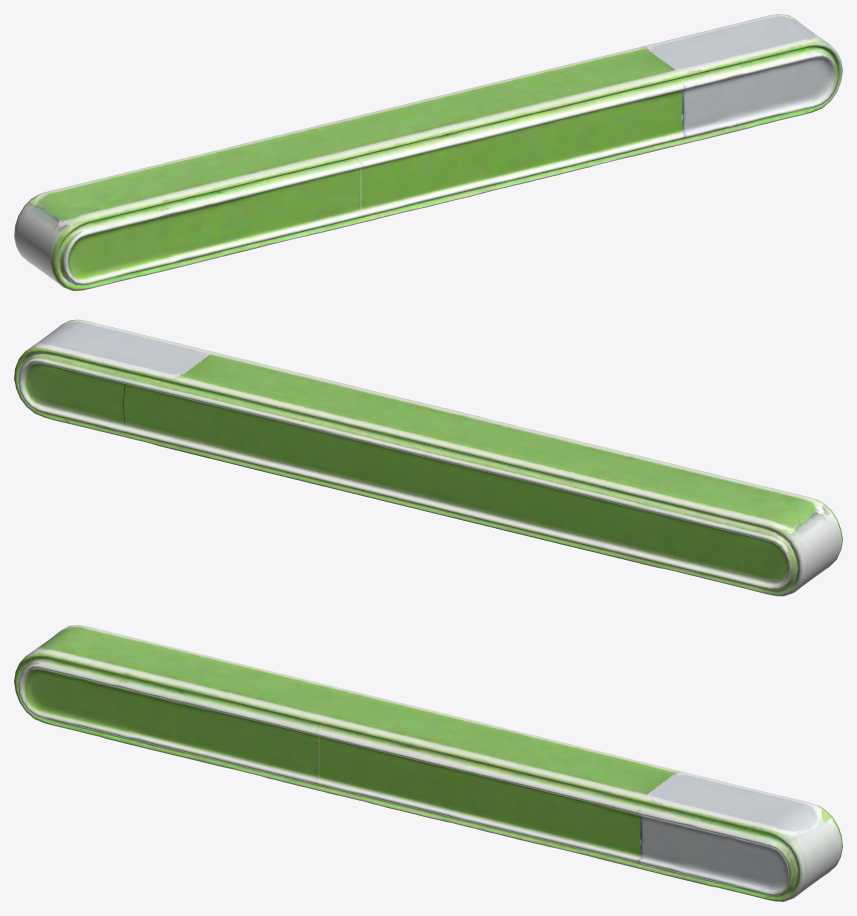
The model's file is 3d_progress_bar_0203113753_texture.fbx.
The picture shows the model from 3 angles, top to bottom: view 1: azimuth 30°, elevation 25°; view 2: azimuth 150°, elevation 25°; view 3: azimuth 330°, elevation 25°; orthographic projection.
Visible parts, largest first — view 1: Mesh1_Mesh1.038; view 2: Mesh1_Mesh1.038; view 3: Mesh1_Mesh1.038.
Boxes of the visible parts, bbox=[...] form: Mesh1_Mesh1.038: bbox=[14, 14, 842, 290]; Mesh1_Mesh1.038: bbox=[14, 319, 842, 596]; Mesh1_Mesh1.038: bbox=[14, 625, 842, 901].
Size of the model in its own units: 200 by 17.6 by 20.85.
1 material, 1 textured.
